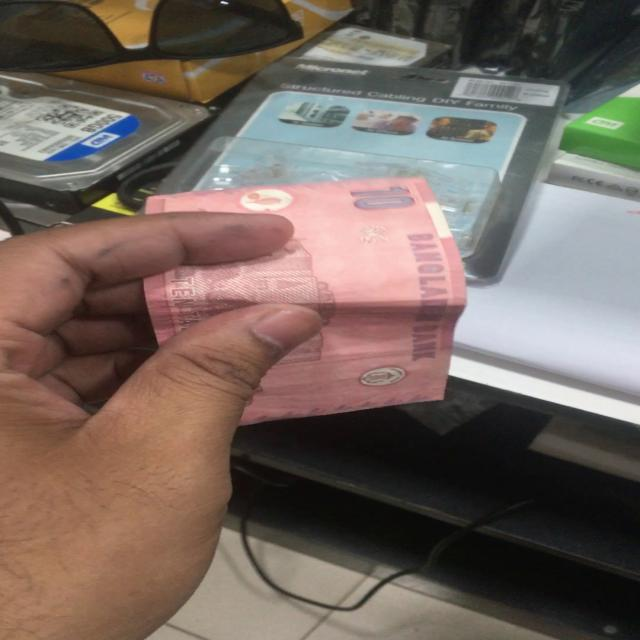Taka: (148, 183, 458, 426)
